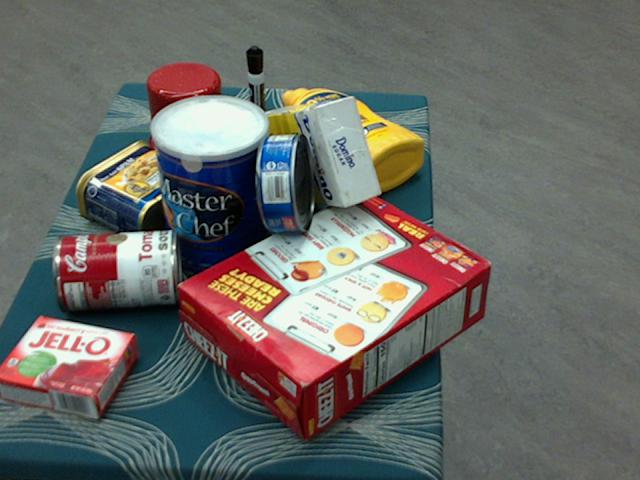cracker_box: (177, 188, 492, 439)
gelatin_box: (0, 314, 137, 419)
large_marker: (245, 45, 267, 149)
master_chef_can: (150, 97, 271, 283)
mug: (145, 63, 230, 164)
mustard_bottle: (281, 87, 423, 194)
potted_meat_can: (75, 141, 207, 244)
sugar_box: (253, 98, 380, 208)
tomato_soup_can: (51, 230, 180, 308)
tuna_fish_can: (256, 131, 314, 230)
